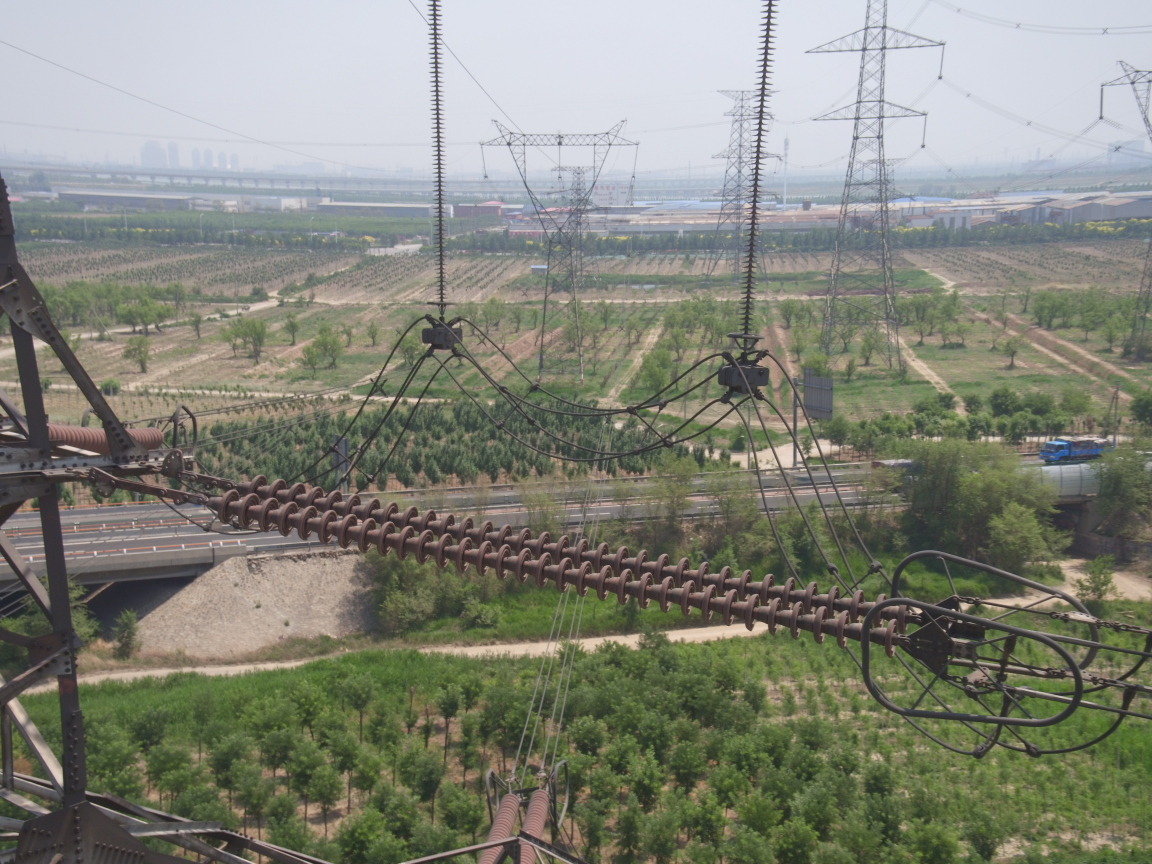insulator: (192, 470, 922, 659)
